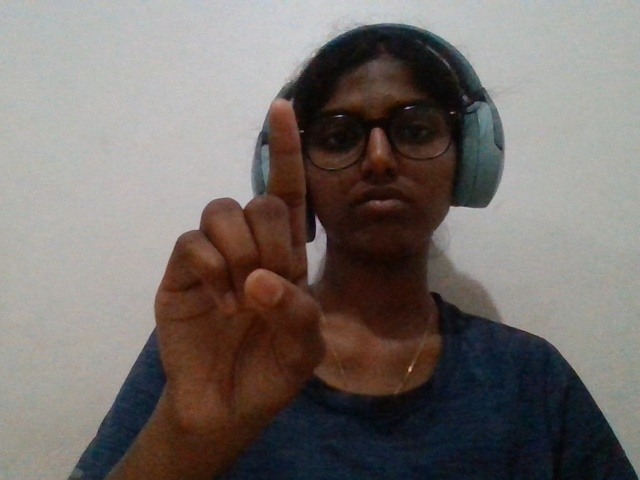D: (88, 57, 341, 472)
